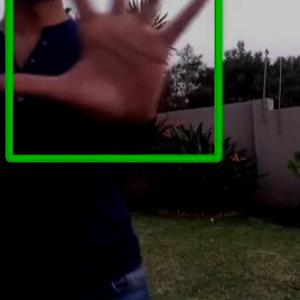follow_hand: (0, 0, 216, 136)
